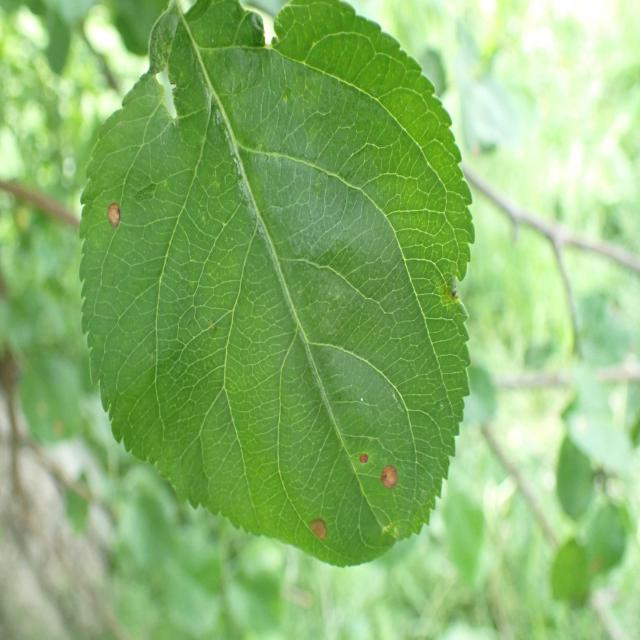Black Rot: (371, 453, 412, 502), (308, 489, 336, 554), (347, 426, 373, 476), (102, 190, 130, 228)
